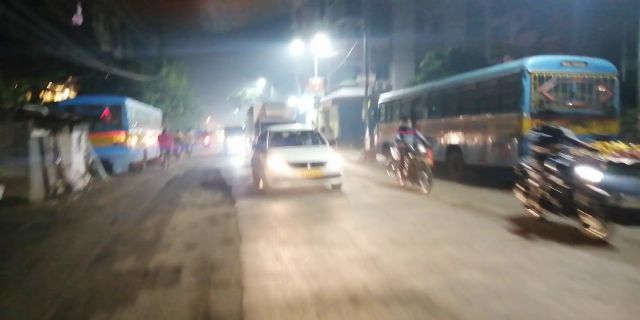Bus: (370, 52, 628, 177), (58, 92, 167, 177)
Car: (257, 121, 350, 199)
Motorbike: (520, 113, 624, 248), (387, 115, 440, 199)
